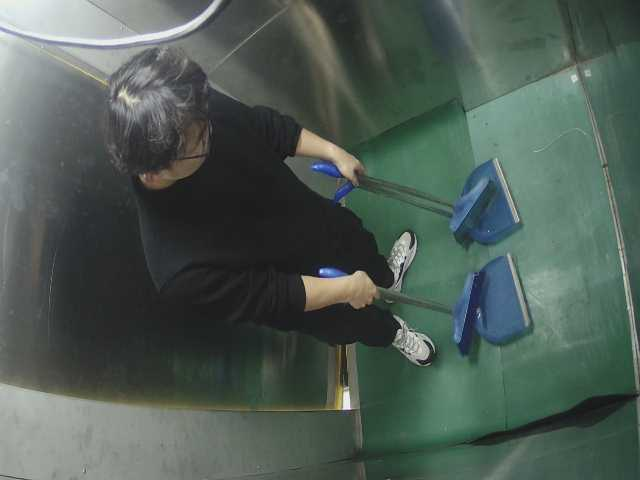broom: (311, 250, 551, 352), (301, 139, 542, 237)
person: (92, 39, 444, 376)
